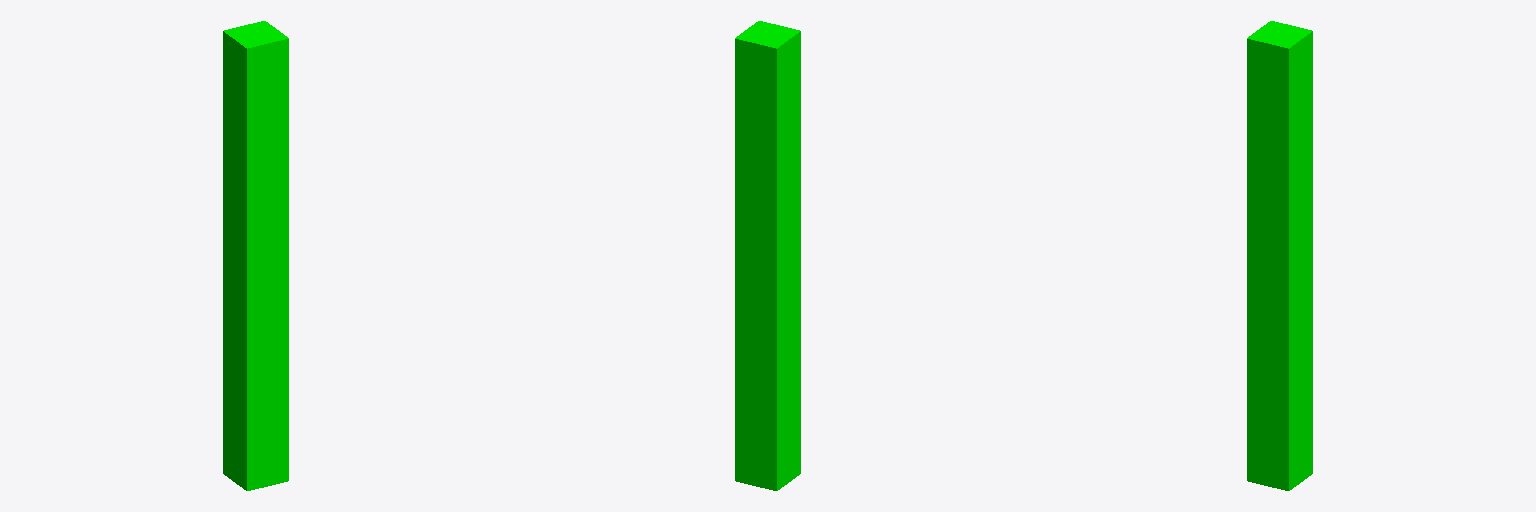
The robot description file, URDF, robot "tree_two":
<?xml version="1.0" ?>
<robot name="tree_two">
    <link name="block">
    <inertial>
      <origin xyz="0 0 0" rpy="0 0 0"/>
      <mass value="0.0"/>
      <inertia ixx="1" ixy="0" ixz="0" iyy="1" iyz="0" izz="1"/>
    </inertial>
    <!-- Visual representation of the cube (0.3m x 0.3m x 0.3m) -->
    <visual>
      <origin xyz="0 0 0" rpy="0 0 0"/>
      <geometry>
        <box size="0.4 0.4 4.0"/>
      </geometry>
      <material name="green">
        <color rgba="0 1 0 1"/>
      </material>
    </visual>
    <!-- Collision representation of the cube (0.3m x 0.3m x 0.3m) -->
    <collision>
      <origin xyz="0 0 0" rpy="0 0 0"/>
      <geometry>
        <box size="0.4 0.4 4.0"/>
      </geometry>
    </collision>    
    <!-- Contact properties (optional, e.g., friction) --> 
    <contact>
      <lateral_friction value="1.0"/>
      <rolling_friction value="0.0"/>
      <restitution value="0.0"/>
    </contact>
  </link>
</robot>  

--- What the picture shows (computed from the rendered views, not written in the file) ---
Views: 3 orthographic renders of the robot side by side, from view 1: azimuth 30°, elevation 25°; view 2: azimuth 150°, elevation 25°; view 3: azimuth 330°, elevation 25°.
Robot: tree_two — 1 links, 0 joints (none); root link block; default pose: all joints at 0.
Links seen in each view (by area): view 1: block; view 2: block; view 3: block.
Boxes of the visible links, box(x1,y1,x2,y2) form: block: box(223, 21, 288, 490); block: box(735, 21, 800, 490); block: box(1247, 21, 1312, 490).
Bounding box of the posed robot: 0.4 × 0.4 × 4 m (x, y, z).
Geometry: primitives only (box / cylinder / sphere), no mesh files.